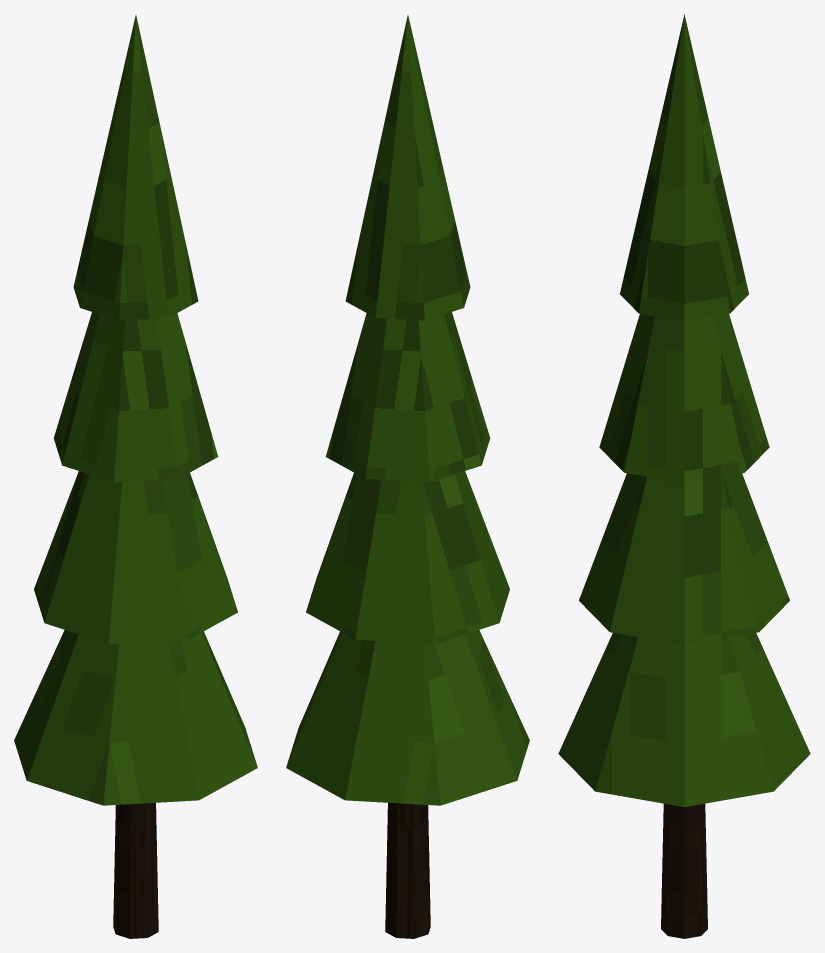
Rendered from alerce.glb.
3 renders of one model, left to right at view 1: azimuth 30°, elevation 25°; view 2: azimuth 150°, elevation 25°; view 3: azimuth 270°, elevation 25°, orthographic.
Parts seen in each view (by area): view 1: copa, tronco; view 2: copa, tronco; view 3: copa, tronco.
Part boxes in pixels (x1,y1,x2,y2): copa: (14, 15, 257, 805); tronco: (113, 802, 158, 938); copa: (286, 15, 529, 805); tronco: (385, 802, 430, 938); copa: (558, 14, 810, 807); tronco: (661, 803, 707, 938).
Size of the model in its own units: 3 by 12 by 3.
1 material, 1 textured.
